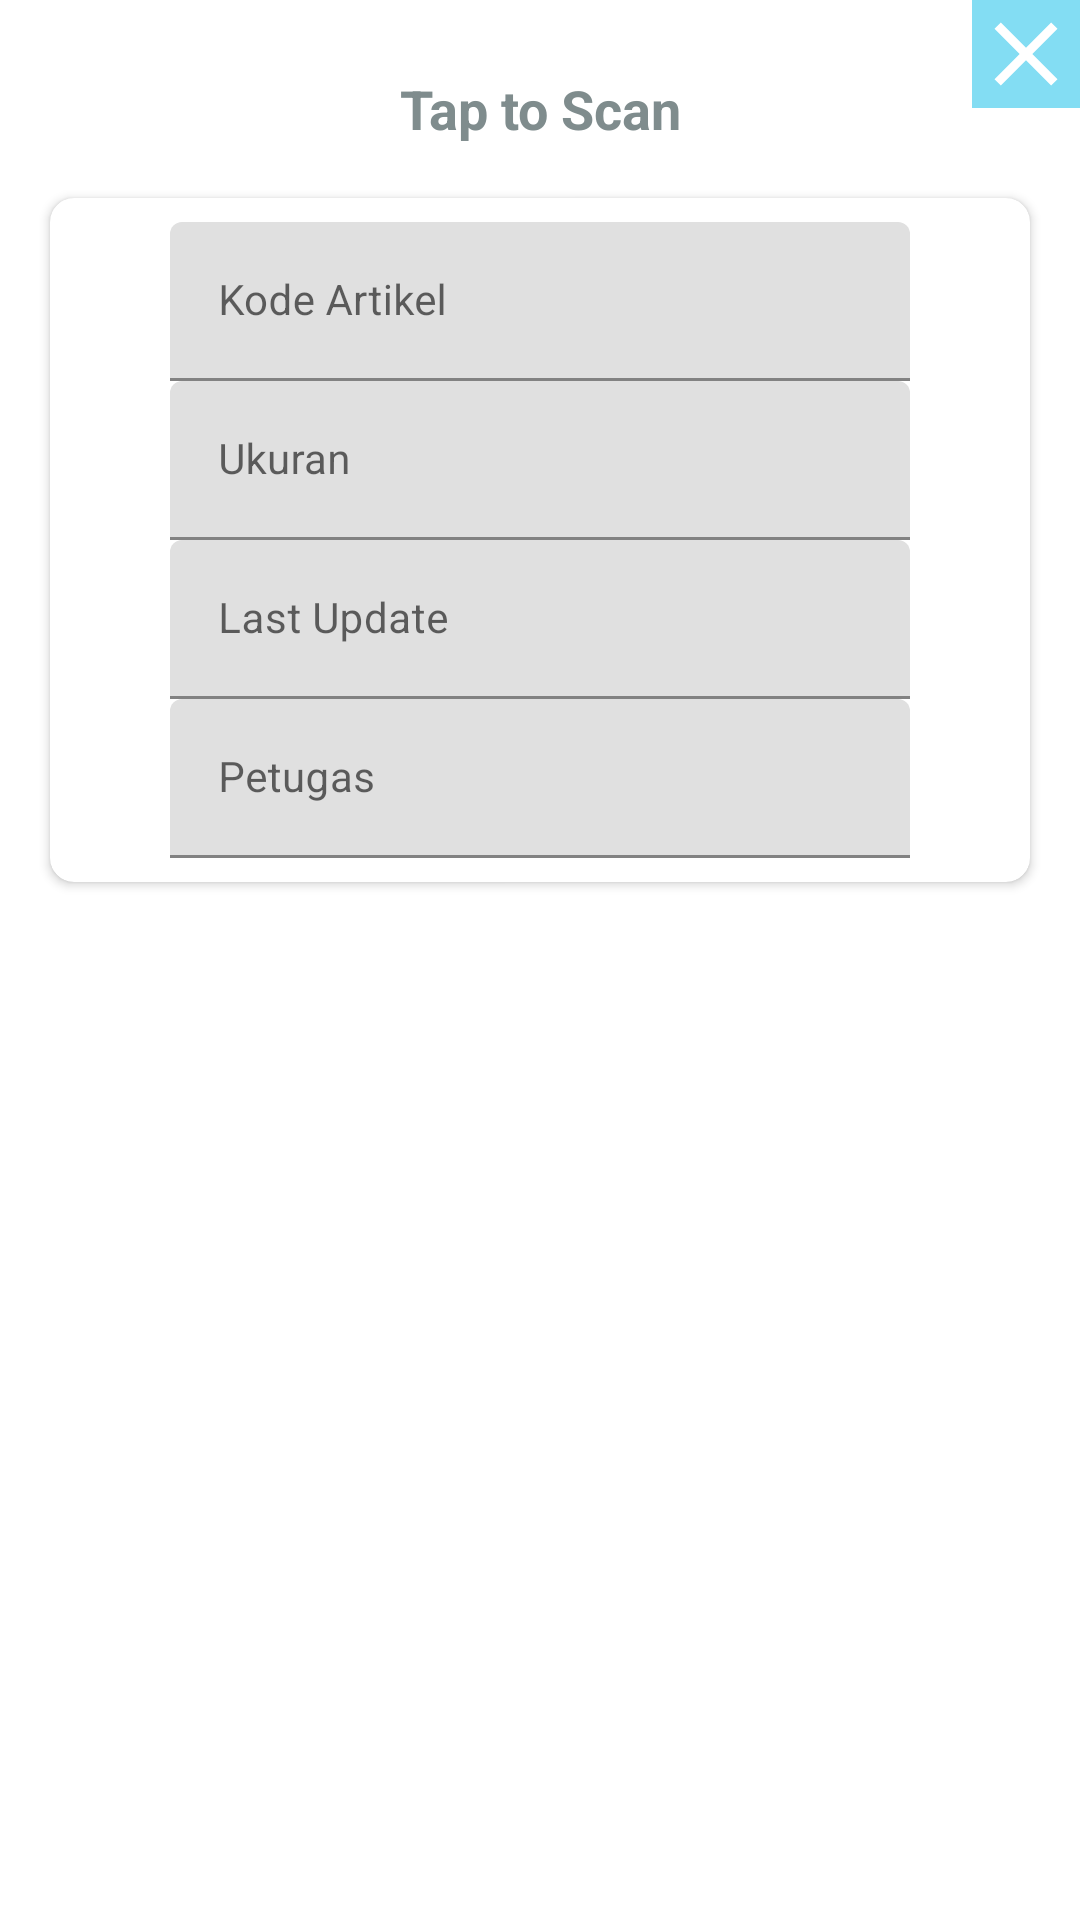

Where icons sit on this 1080*1920 app screen, as (x1, y1, x2, y2):
exit: (972, 0, 1080, 108)
